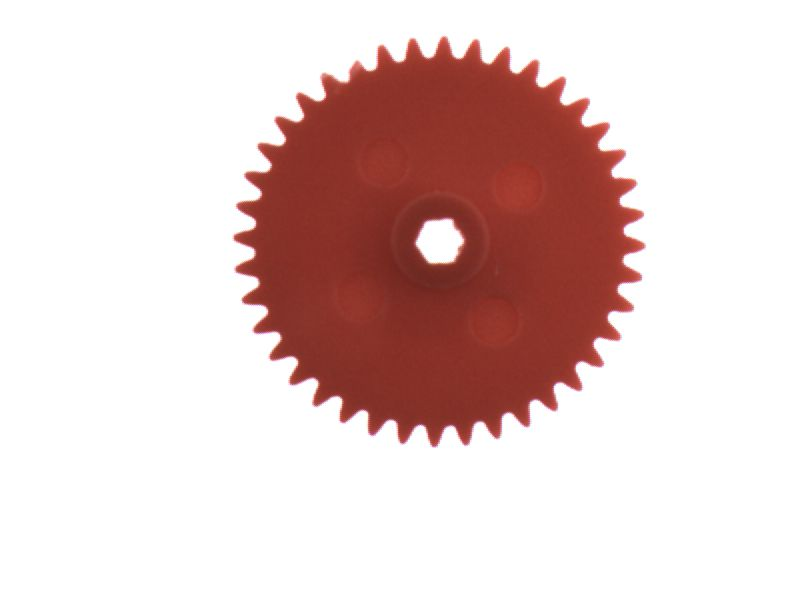defect_break: (337, 46, 381, 88)
